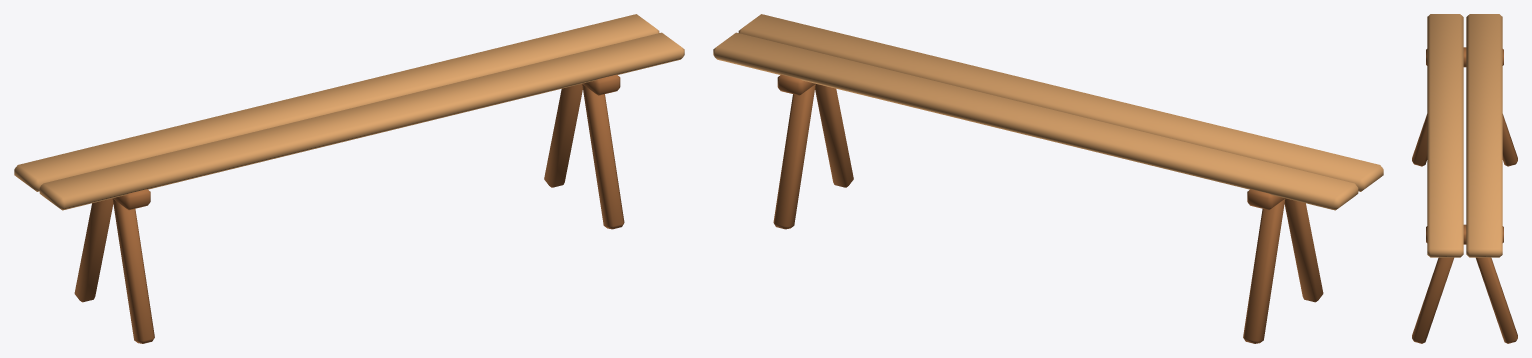
Rendered from banco_biergarten.glb.
3 renders of one model, left to right at view 1: azimuth 30°, elevation 25°; view 2: azimuth 150°, elevation 25°; view 3: azimuth 270°, elevation 25°, orthographic. The views are drawn at different scales.
Visible parts, largest first — view 1: Banco_Biergarten; view 2: Banco_Biergarten; view 3: Banco_Biergarten.
Boxes of the visible parts, x1=… form: Banco_Biergarten: x1=14, y1=14, x2=684, y2=343; Banco_Biergarten: x1=713, y1=14, x2=1383, y2=343; Banco_Biergarten: x1=1412, y1=14, x2=1517, y2=343.
Bounding box in the file's own units: 2 × 0.4842 × 0.3778.
